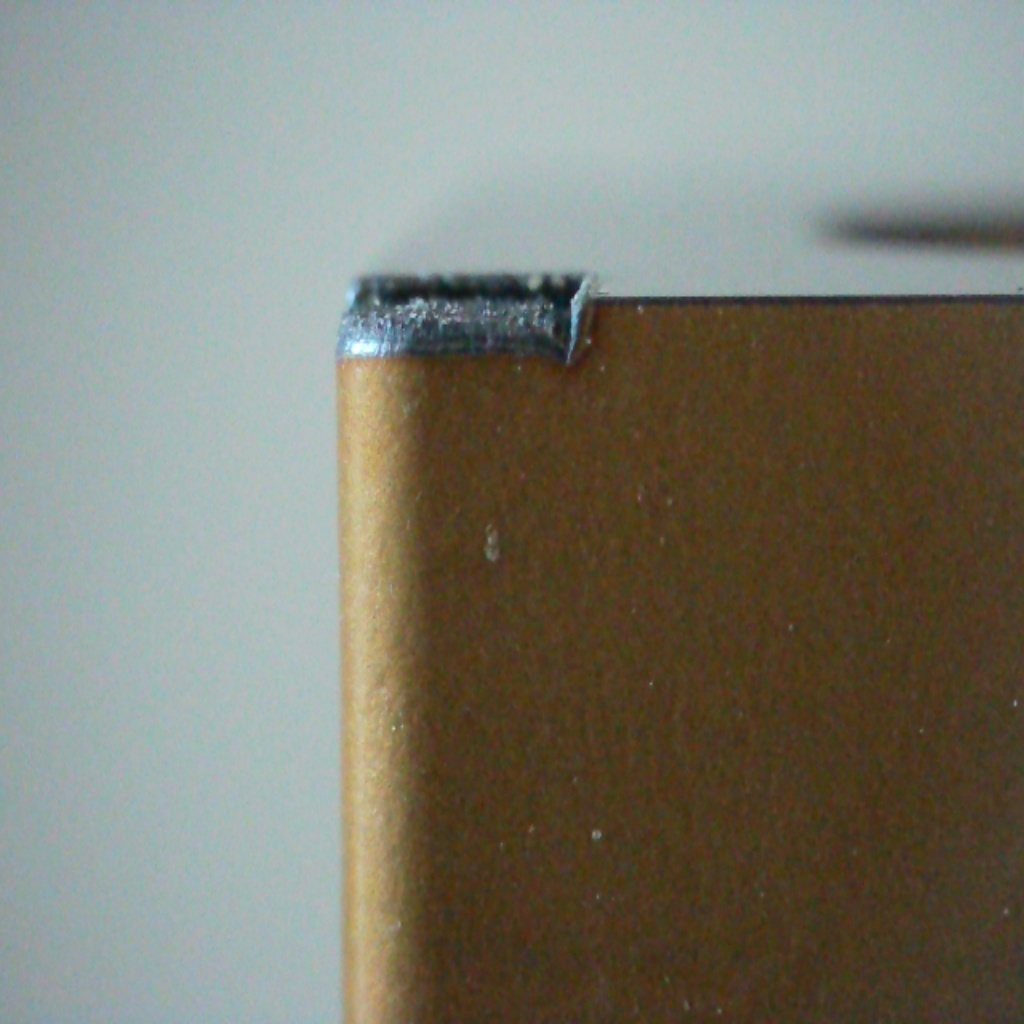flank_wear: (339, 334, 484, 371)
